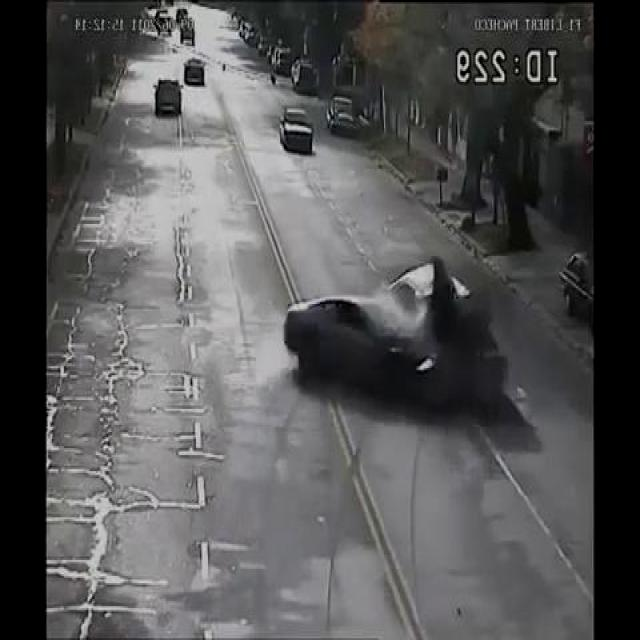accident: (284, 256, 512, 416)
non-accident: (152, 56, 206, 120), (152, 6, 196, 48)
